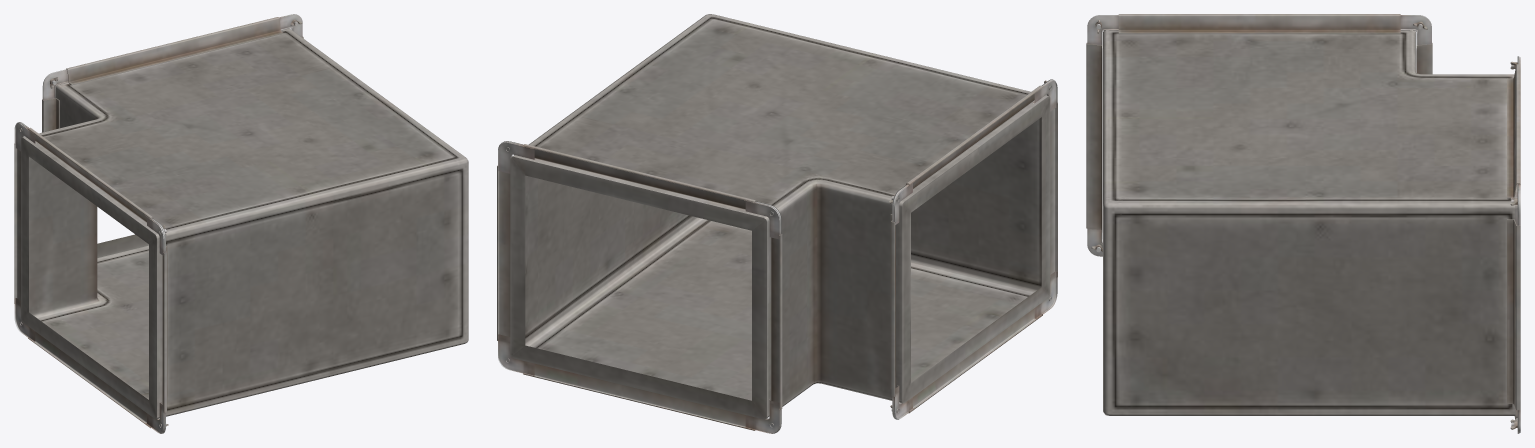
The model's file is corner.glb.
The picture shows the model from 3 angles, left to right: view 1: azimuth 30°, elevation 25°; view 2: azimuth 150°, elevation 25°; view 3: azimuth 270°, elevation 25°; orthographic projection. The views are drawn at different scales.
Visible parts, largest first — view 1: modular_airduct_rectangular_01_corner_02; view 2: modular_airduct_rectangular_01_corner_02; view 3: modular_airduct_rectangular_01_corner_02.
Boxes of the visible parts, box(x1,y1,x2,y2) form: modular_airduct_rectangular_01_corner_02: box(14, 14, 468, 433); modular_airduct_rectangular_01_corner_02: box(497, 14, 1057, 433); modular_airduct_rectangular_01_corner_02: box(1086, 14, 1520, 433).
Size of the model in its own units: 0.8317 by 0.5126 by 0.8317.
Materials: 2 (2 with a texture image).
